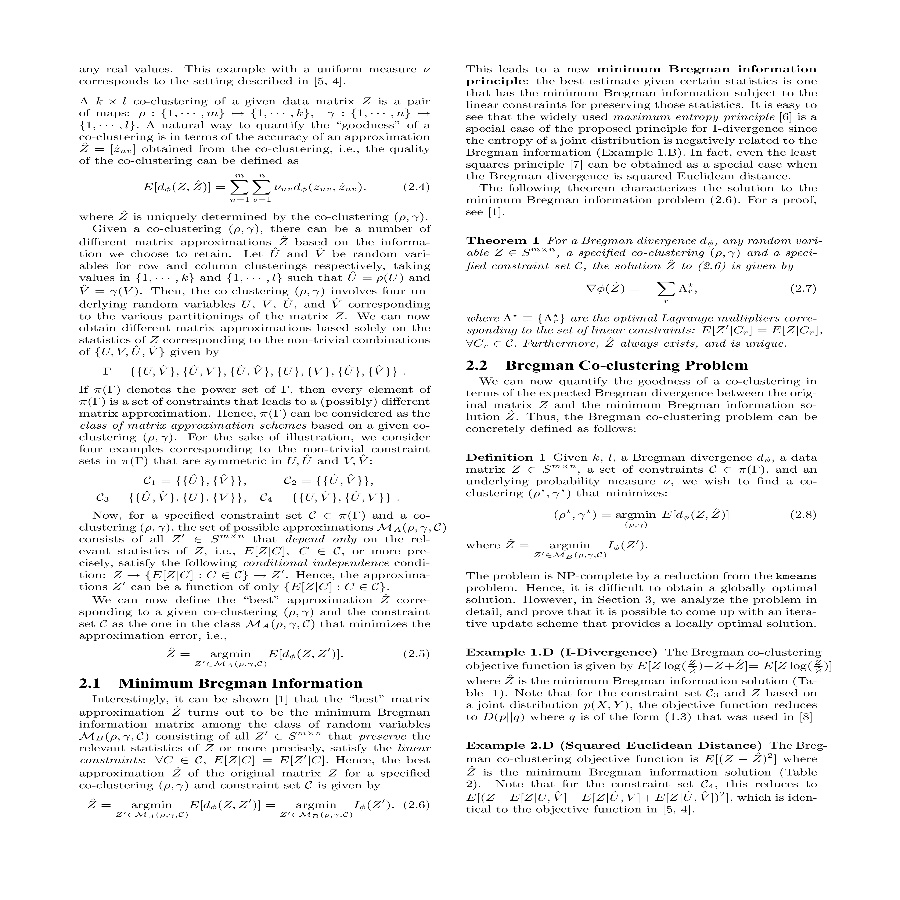eq: (90, 470, 395, 508), (87, 794, 391, 821), (139, 170, 366, 202), (99, 361, 400, 383), (550, 501, 734, 531), (161, 643, 340, 668), (503, 538, 655, 563), (586, 279, 704, 304)
